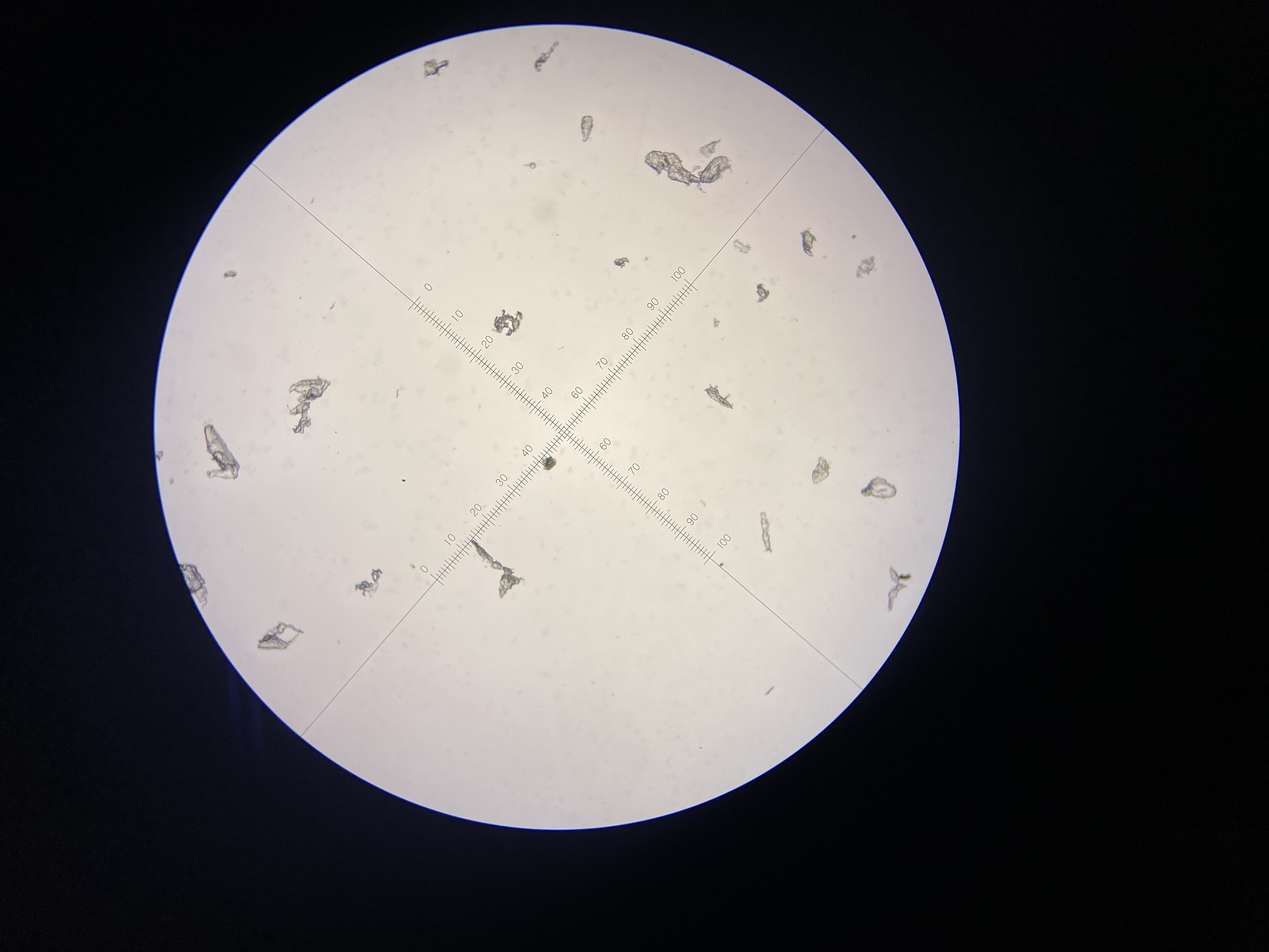microplastic: (644, 139, 732, 193), (471, 540, 525, 599), (287, 375, 330, 434), (204, 424, 240, 479), (257, 621, 304, 650), (179, 564, 208, 609), (886, 565, 911, 611), (492, 309, 523, 336), (860, 477, 897, 498), (534, 41, 559, 72), (355, 569, 383, 596), (704, 384, 734, 409), (423, 59, 449, 79), (812, 456, 830, 484), (856, 256, 877, 279), (760, 512, 772, 552), (800, 230, 817, 257), (581, 116, 593, 142), (756, 284, 770, 303), (541, 456, 557, 471), (734, 241, 751, 254), (614, 257, 629, 269), (223, 270, 237, 278), (523, 162, 536, 169), (713, 317, 720, 327)
